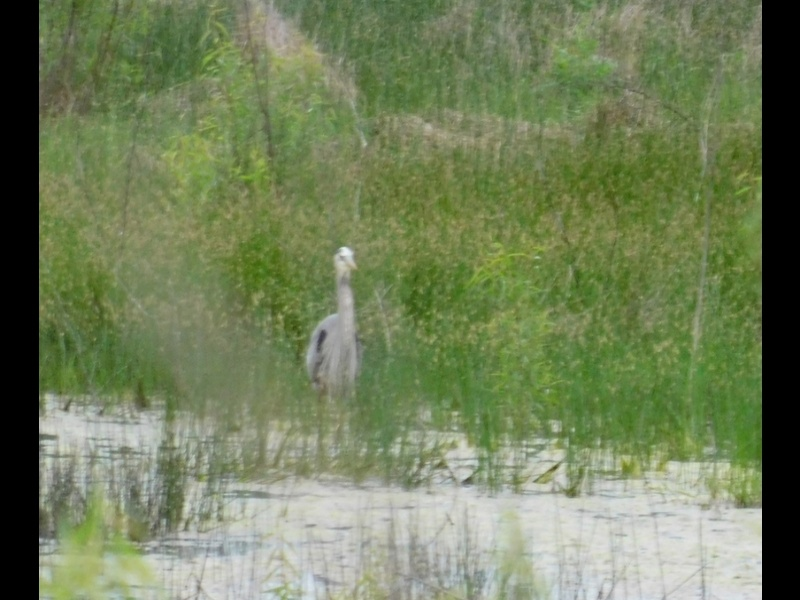heron: (303, 244, 362, 422)
